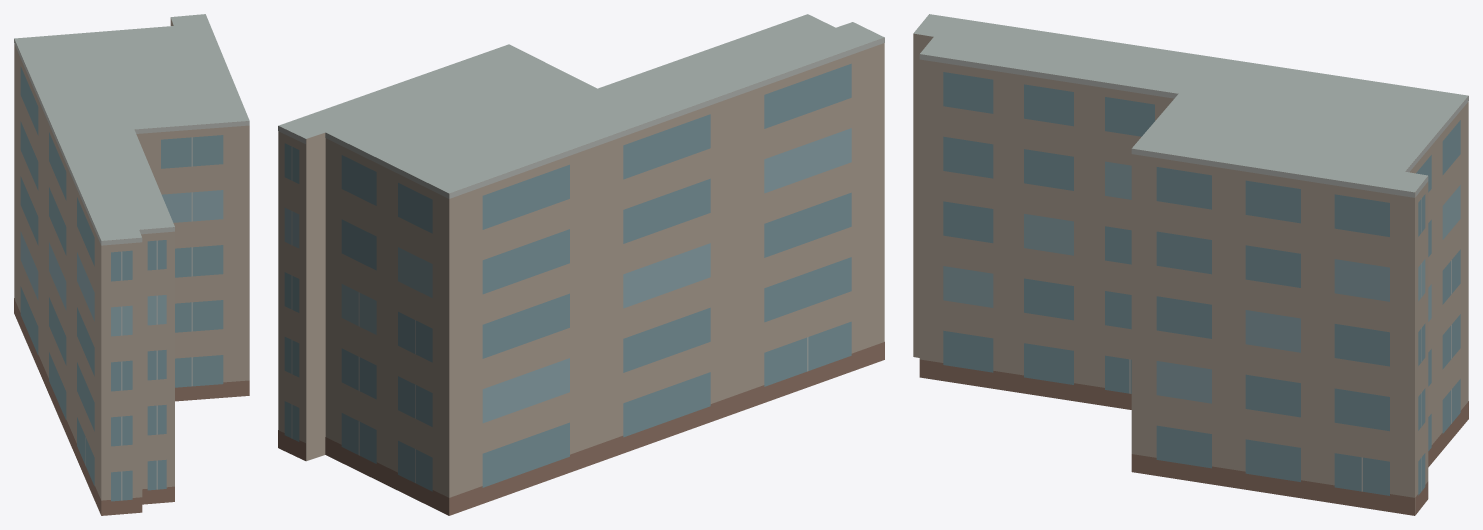
File: survey-upis-32880529.glb
The picture shows the model from 3 angles, left to right: view 1: azimuth 30°, elevation 25°; view 2: azimuth 150°, elevation 25°; view 3: azimuth 270°, elevation 25°; orthographic projection. The views are drawn at different scales.
Parts seen in each view (by area): view 1: survey-upis-32880529.tmp; view 2: survey-upis-32880529.tmp; view 3: survey-upis-32880529.tmp.
Part boxes in pixels (x1=…): survey-upis-32880529.tmp: x1=14, y1=14, x2=249, y2=515; survey-upis-32880529.tmp: x1=278, y1=14, x2=884, y2=515; survey-upis-32880529.tmp: x1=913, y1=14, x2=1468, y2=515.
Size of the model in its own units: 17.05 by 14.4 by 22.42.
